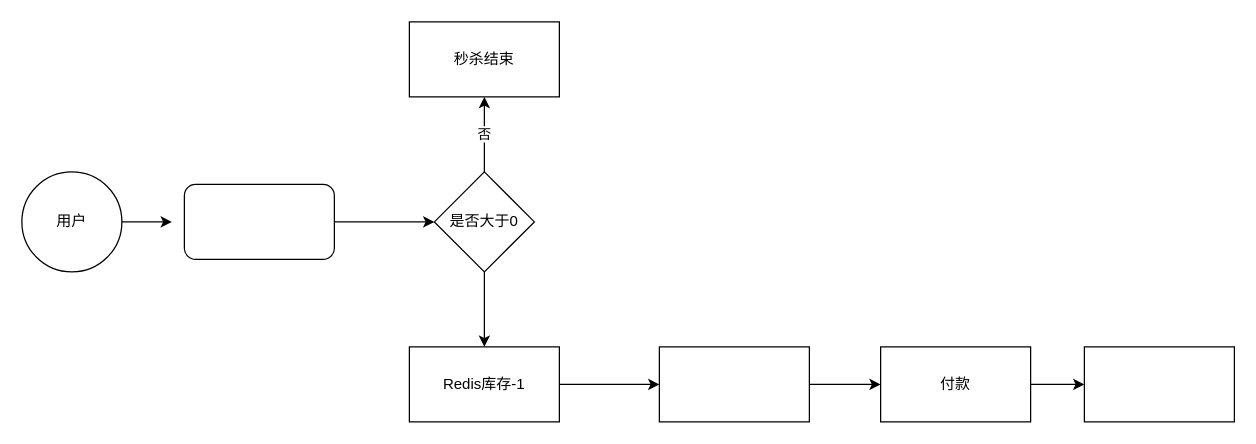
Some shapes in this 1256 by 444 pixel diagram are drawn without their labels. Here are the shapes that lost their labels. From the top down, the centre of each, then its label:
At [258,221]: "读Redis中的库存".
At [733,384]: "锁定数据库库存，创建订单".
